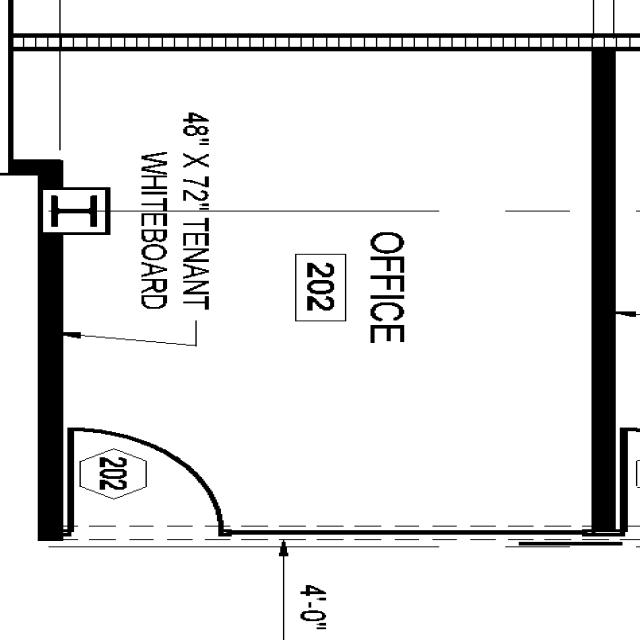Doors: (61, 423, 230, 542)
